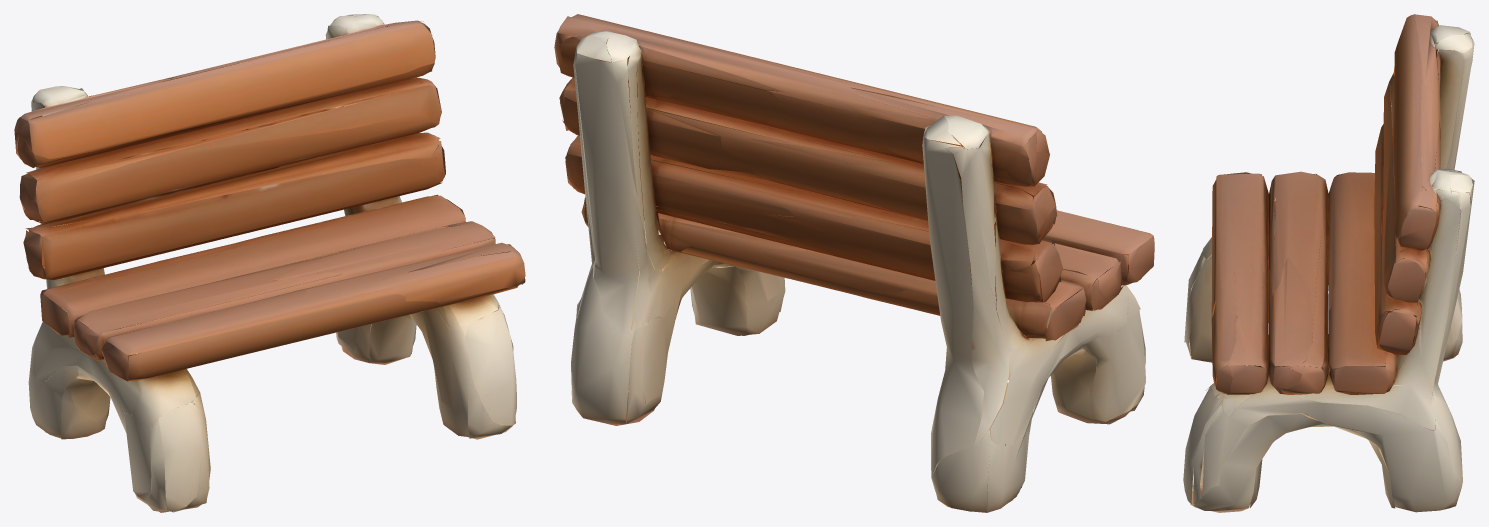
File: kursi.glb
3 views of the same model, side by side, from view 1: azimuth 30°, elevation 25°; view 2: azimuth 150°, elevation 25°; view 3: azimuth 270°, elevation 25° (orthographic). The views are drawn at different scales.
Parts seen in each view (by area): view 1: Kursi.001; view 2: Kursi.001; view 3: Kursi.001.
Part boxes in pixels (x1=…): Kursi.001: x1=14, y1=14, x2=525, y2=512; Kursi.001: x1=554, y1=14, x2=1154, y2=512; Kursi.001: x1=1183, y1=14, x2=1474, y2=512.
Bounding box in the file's own units: 0.9292 × 0.716 × 0.5813.
Materials: 1 (1 with a texture image).
